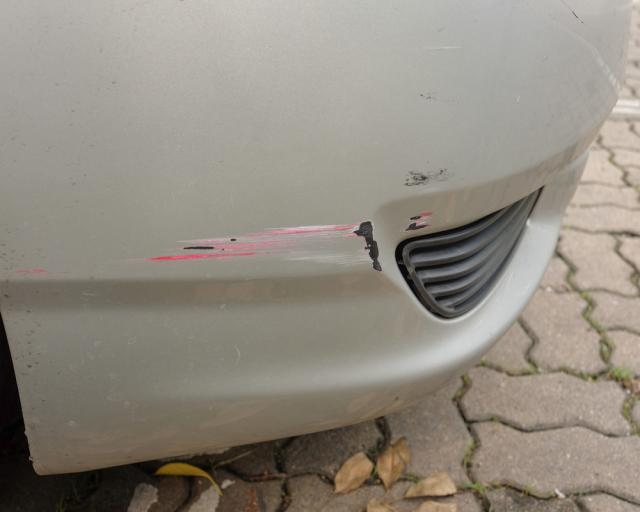scratch: (123, 218, 385, 278), (399, 159, 457, 191), (395, 206, 437, 237)
